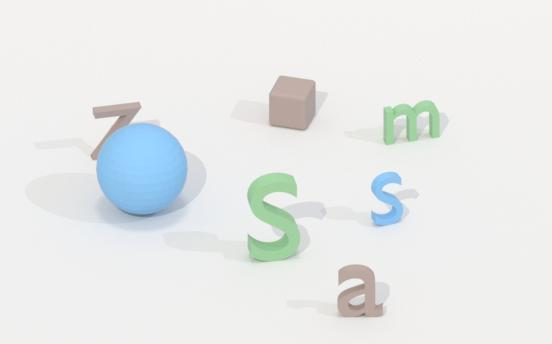chu_khoi: (247, 173, 300, 261), (337, 264, 383, 316), (371, 172, 402, 225)
hinh_cau: (96, 123, 187, 214)
lap_phuong: (269, 76, 315, 129)
so_khoi: (383, 100, 440, 144)
